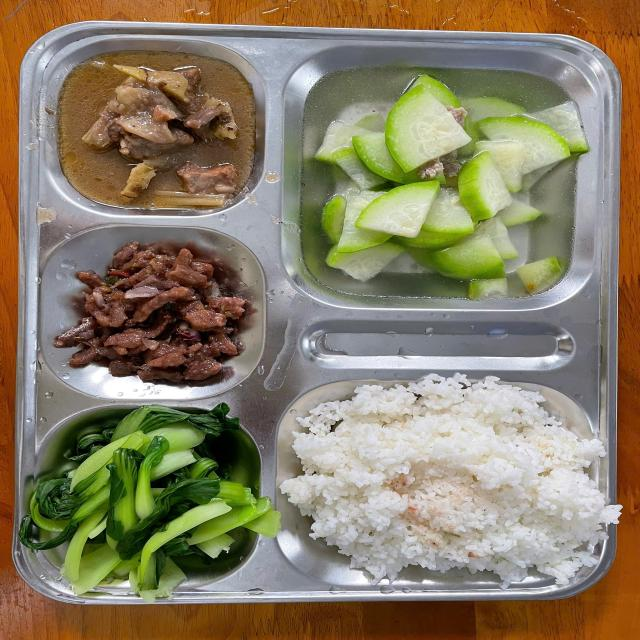caithia: (40, 411, 249, 585)
canhbau: (305, 74, 581, 303)
salad: (298, 383, 606, 577)
suonram: (67, 235, 243, 391)
thitkhotrung: (70, 59, 248, 206)
